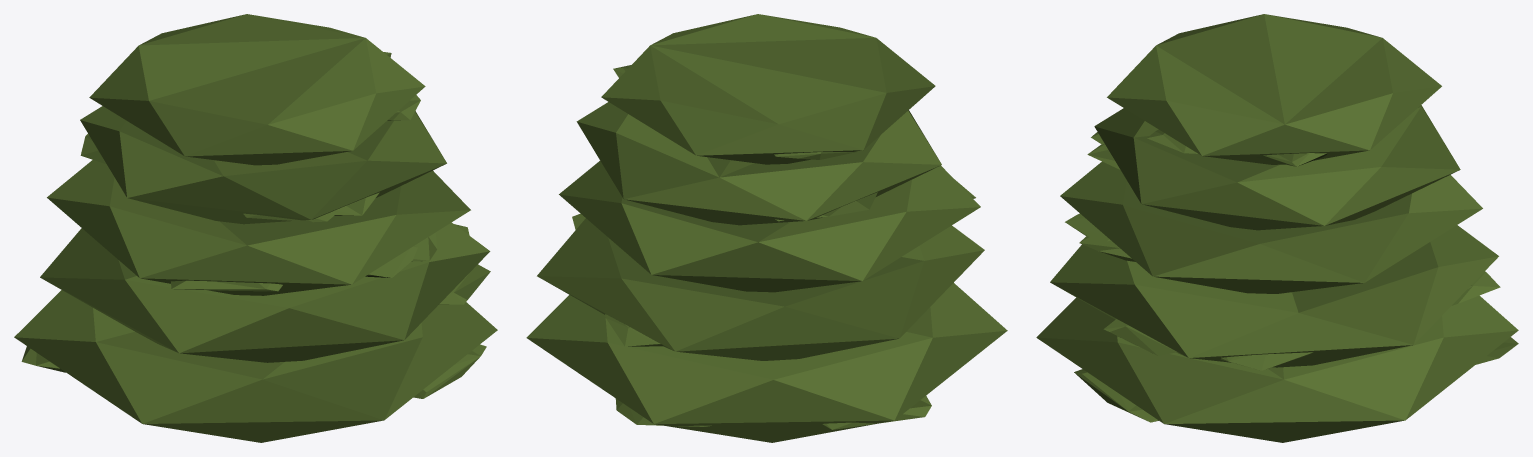
The model's file is Leaves_A.glb.
3 renders of one model, left to right at view 1: azimuth 30°, elevation 25°; view 2: azimuth 150°, elevation 25°; view 3: azimuth 270°, elevation 25°, orthographic.
Visible parts, largest first — view 1: Leaves; view 2: Leaves; view 3: Leaves.
Boxes of the visible parts, x1,y1,x2,y2 form: Leaves: (14,14,497,442); Leaves: (526,14,1007,442); Leaves: (1036,14,1518,442).
Size of the model in its own units: 15.76 by 11.7 by 16.49.
